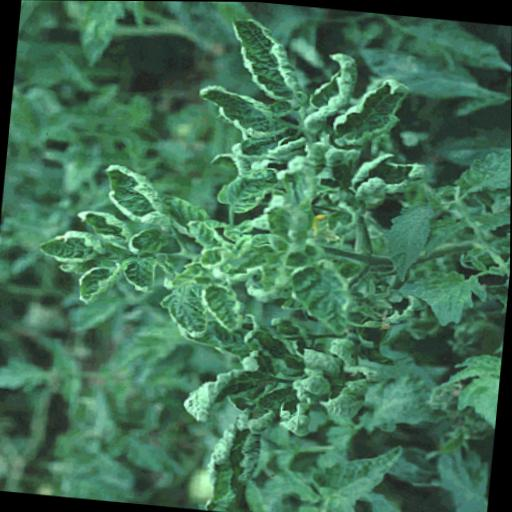Yellow Leaf Curl Virus: (219, 12, 322, 115), (279, 252, 370, 343), (330, 72, 415, 157), (184, 80, 284, 134), (155, 280, 232, 349), (306, 46, 364, 130), (30, 224, 132, 269), (101, 161, 165, 227), (201, 282, 261, 338), (76, 257, 124, 308)
